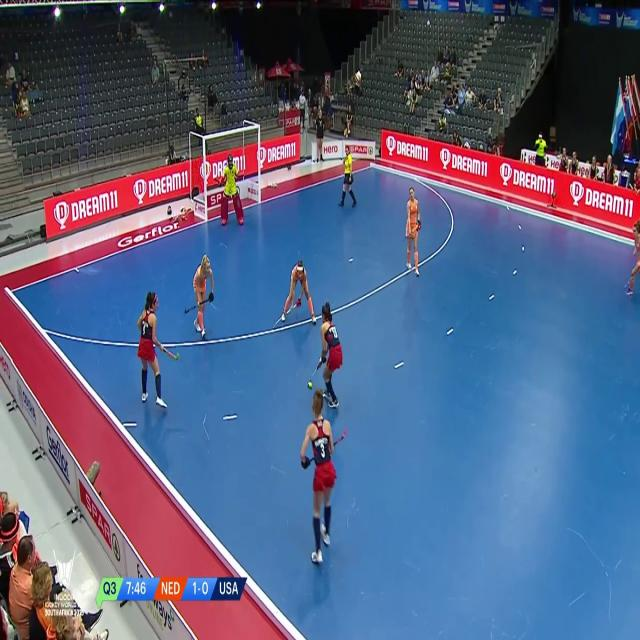ball: (300, 371, 315, 395)
